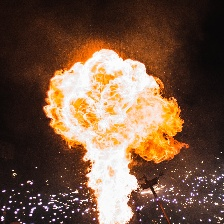fire: (39, 50, 191, 223)
